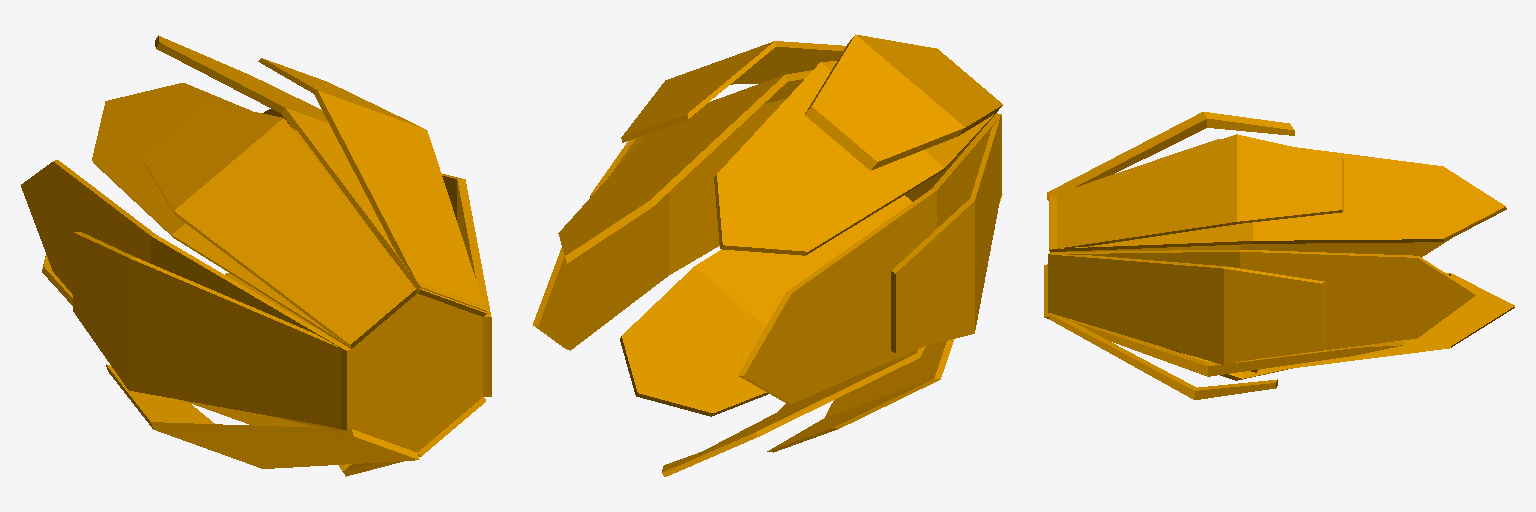
robot.urdf — lettuceLeaf:
<?xml version="1.0"?>
<robot name="lettuceLeaf">
  <link name="leaf">
    <inertial>
        <origin rpy="0 0 0" xyz="0 0 0"/>
        <mass value="0.01"/>
        <inertia ixx="4.4e-5" ixy="0" ixz="0" iyy="0" iyz="0" izz="4.4e-5"/>
    </inertial>
    <visual>
      <geometry>
        <mesh filename="lettuceLeaf.obj"/>
      </geometry>
    </visual>
    <collision>
      <geometry>
        <mesh filename="lettuceLeafCollider.obj"/>
      </geometry>
      <surface>
           <bounce restitution_coefficient = "0.1"/>
      </surface>
    </collision>
  </link>
</robot>

--- What the picture shows (computed from the rendered views, not written in the file) ---
Views: 3 orthographic renders of the robot side by side, from view 1: azimuth 30°, elevation 25°; view 2: azimuth 150°, elevation 25°; view 3: azimuth 270°, elevation 25°.
Robot: lettuceLeaf — 1 links, 0 joints (none); root link leaf; default pose: all joints at 0.
Links seen in each view (by area): view 1: leaf; view 2: leaf; view 3: leaf.
Boxes of the visible links, bbox=[...] form: leaf: bbox=[21, 35, 491, 476]; leaf: bbox=[533, 34, 1002, 476]; leaf: bbox=[1044, 112, 1514, 399].
Bounding box of the posed robot: 0.394 × 0.6617 × 0.4163 m (x, y, z).
Meshes: 1 distinct files referenced, 1 mesh visuals loaded (1 OBJ).
